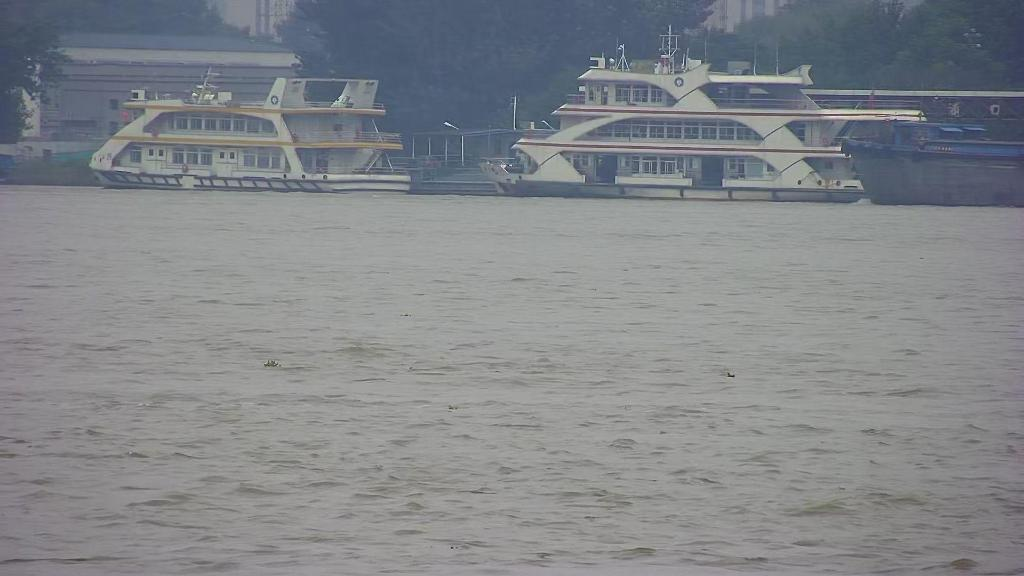PassengerShip: (472, 35, 864, 206), (82, 74, 418, 194)
